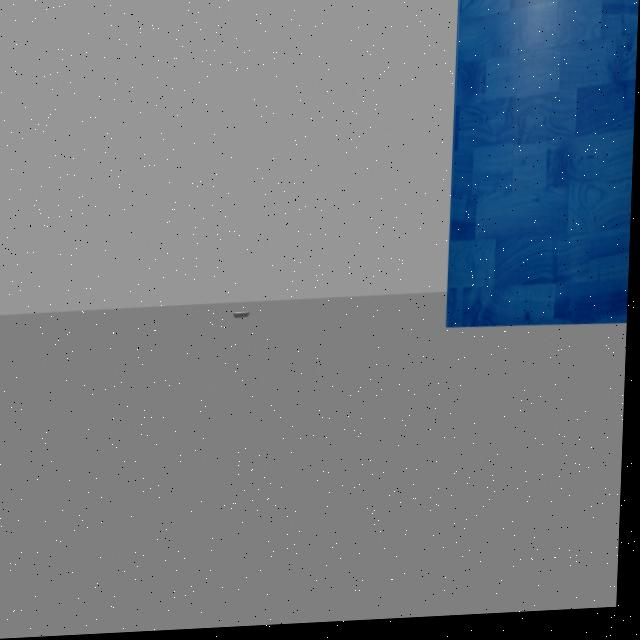bowl: (234, 307, 257, 321)
shelf: (437, 0, 640, 349)
